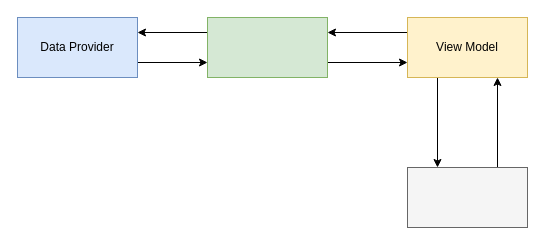
Image size: 545x245. Some labels were removed from this diagram. Each missing label, with the box of its shape:
Model: (206, 16, 328, 78)
View: (406, 166, 528, 228)
